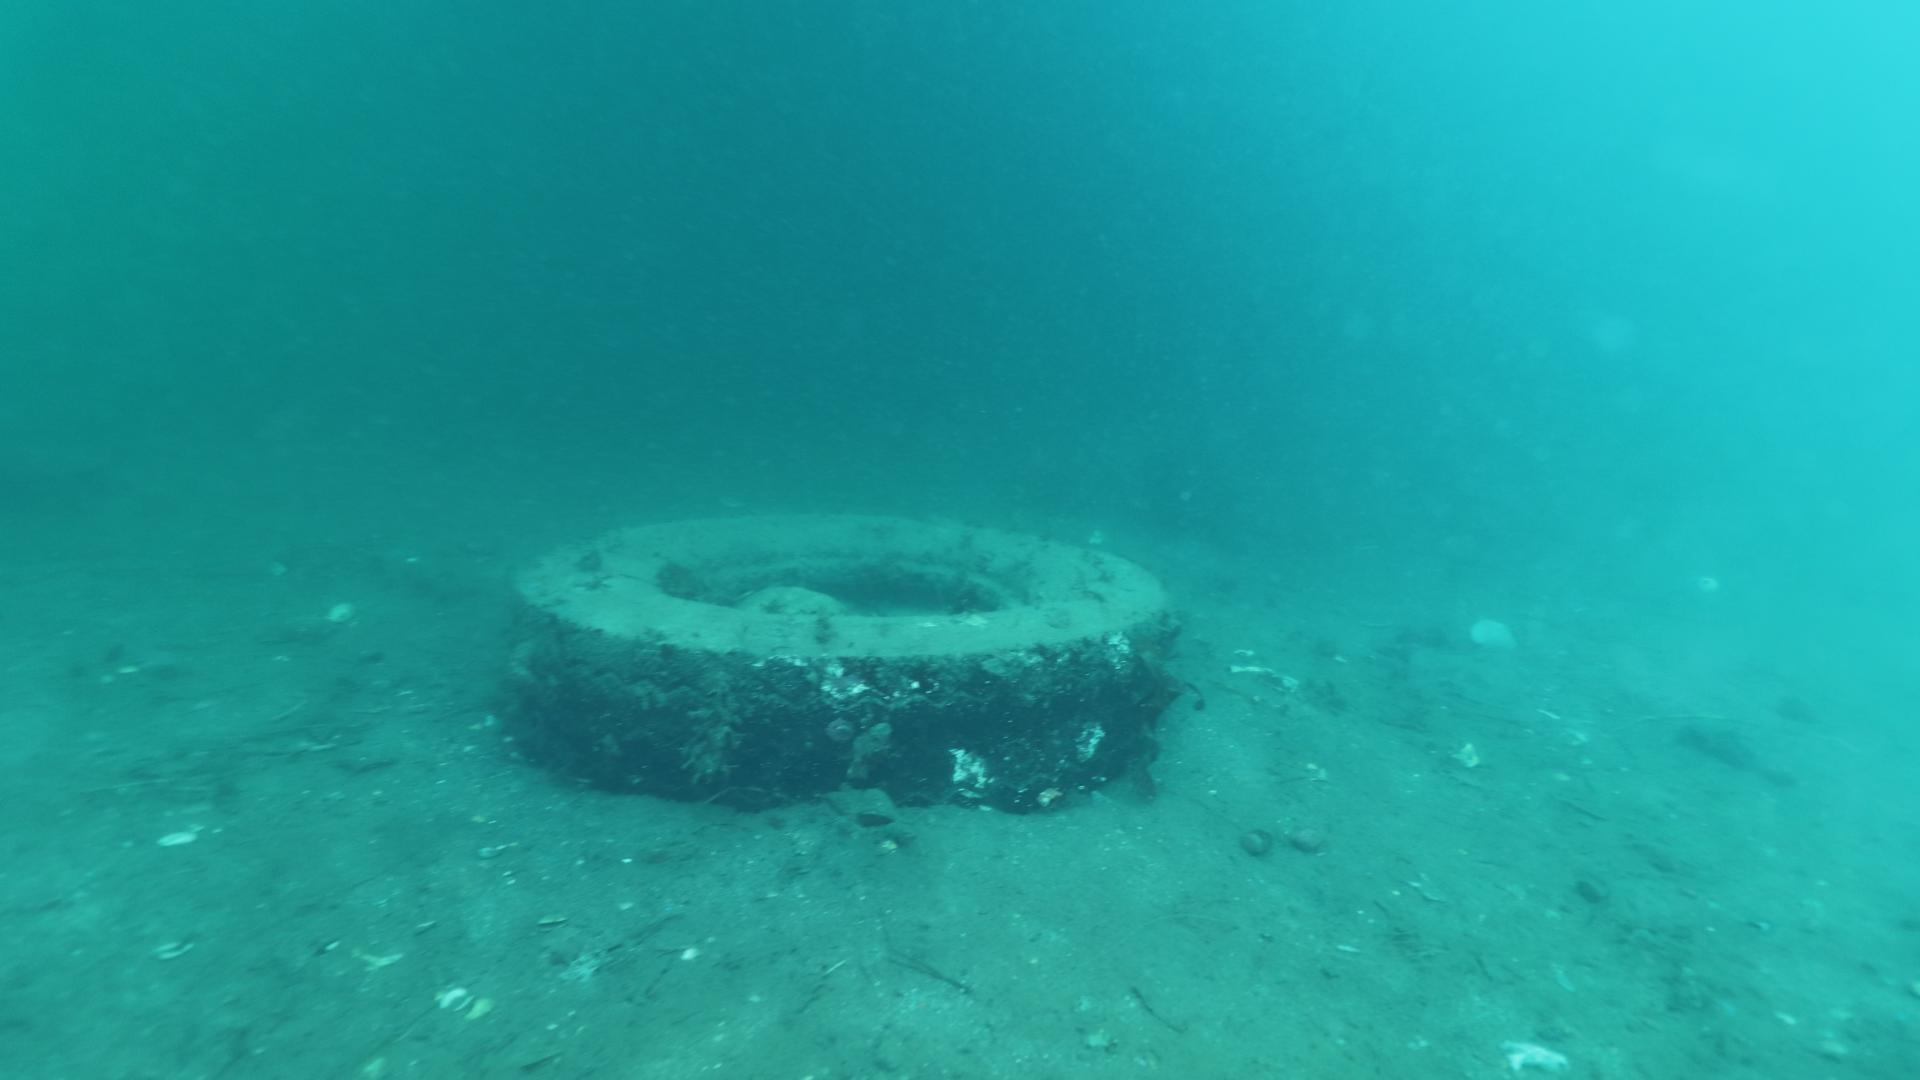tire: (501, 508, 1179, 819)
